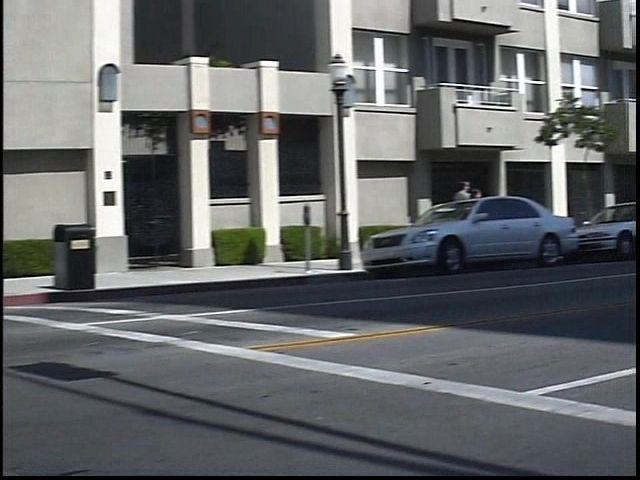person: (463, 176, 487, 251), (482, 184, 502, 246)
